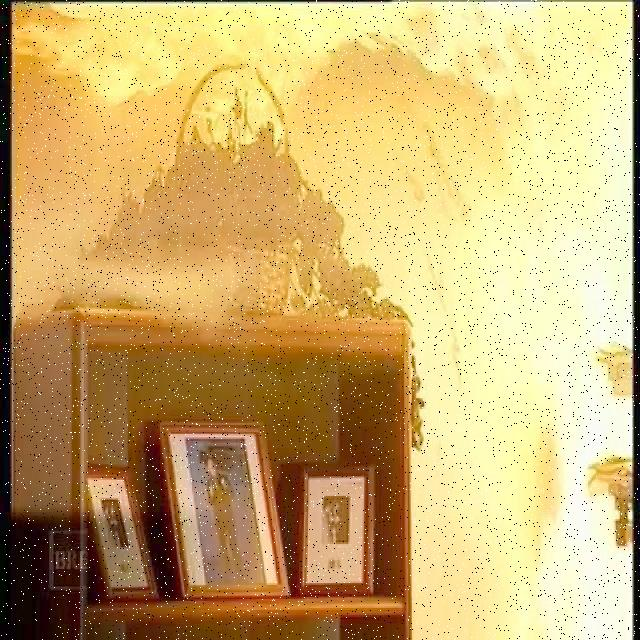fire: (364, 0, 609, 575)
